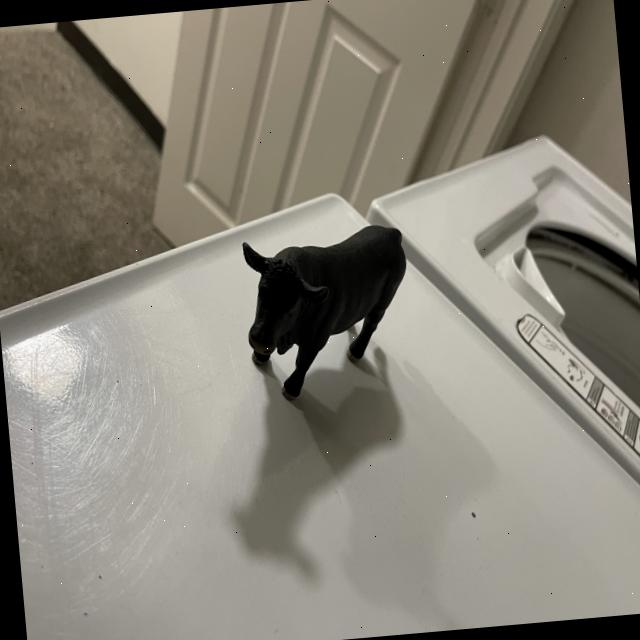cow: (235, 220, 422, 402)
